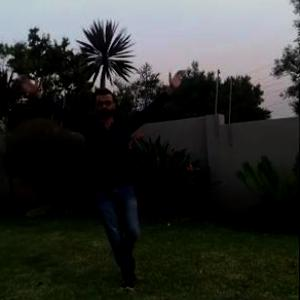takeoff: (20, 75, 182, 280)
